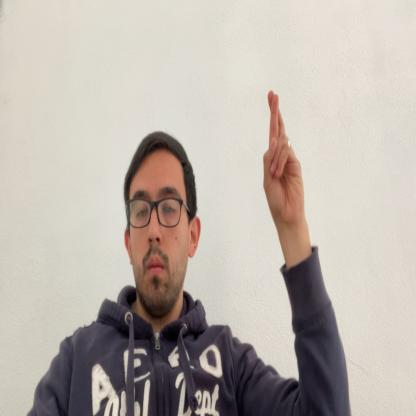R: (263, 90, 306, 231)
